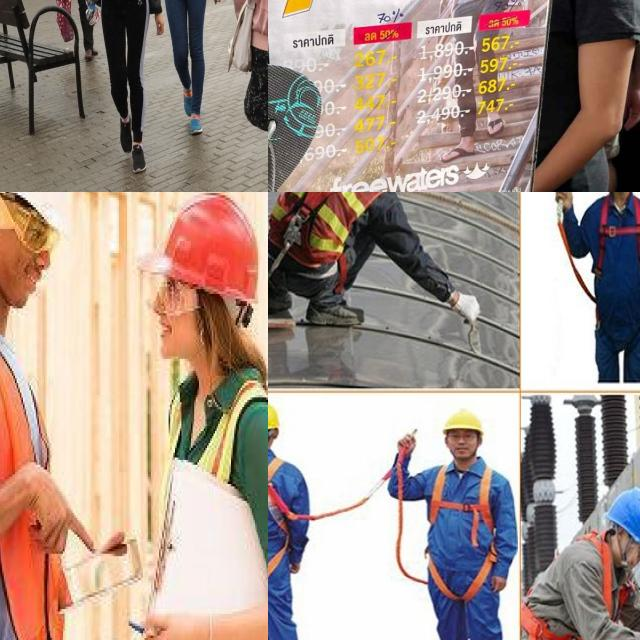Harness: (427, 461, 498, 593), (278, 192, 383, 255), (589, 195, 640, 276), (268, 454, 289, 584)
Sandals: (268, 56, 441, 192)
face_nomask: (148, 270, 229, 378), (0, 192, 63, 313)
glasses: (139, 260, 192, 318), (15, 205, 58, 255)
hand_noglove: (23, 448, 79, 573), (143, 592, 226, 640)
head_helmet: (152, 192, 266, 308), (0, 192, 75, 236)
person: (120, 192, 268, 640), (0, 192, 82, 640)
vest: (143, 361, 268, 640), (0, 308, 63, 640)
